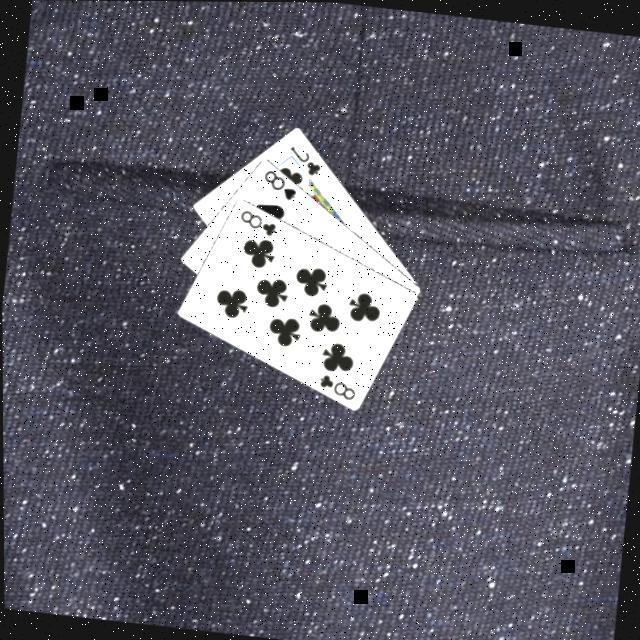8C: (235, 205, 282, 238), (315, 369, 360, 402)
8S: (260, 164, 303, 202)
JC: (285, 140, 327, 178)
